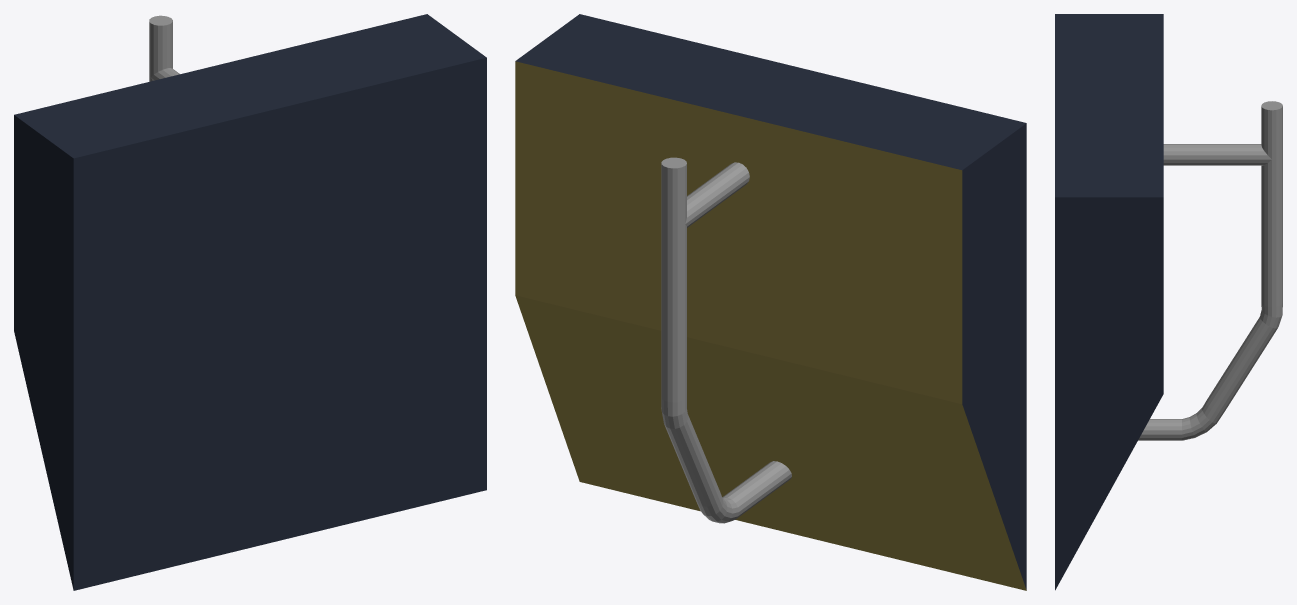
File: Box (Half) W Railing Middle.fbx
3 renders of one model, left to right at view 1: azimuth 30°, elevation 25°; view 2: azimuth 150°, elevation 25°; view 3: azimuth 270°, elevation 25°, orthographic. The views are drawn at different scales.
Visible parts, largest first — view 1: Box (Half) W Railing Middle; view 2: Box (Half) W Railing Middle; view 3: Box (Half) W Railing Middle.
Part boxes in pixels (x1,y1,x2,y2): Box (Half) W Railing Middle: [14, 14, 486, 590]; Box (Half) W Railing Middle: [515, 14, 1026, 590]; Box (Half) W Railing Middle: [1055, 14, 1282, 590].
Bounding box in the file's own units: 800 × 800 × 420.
